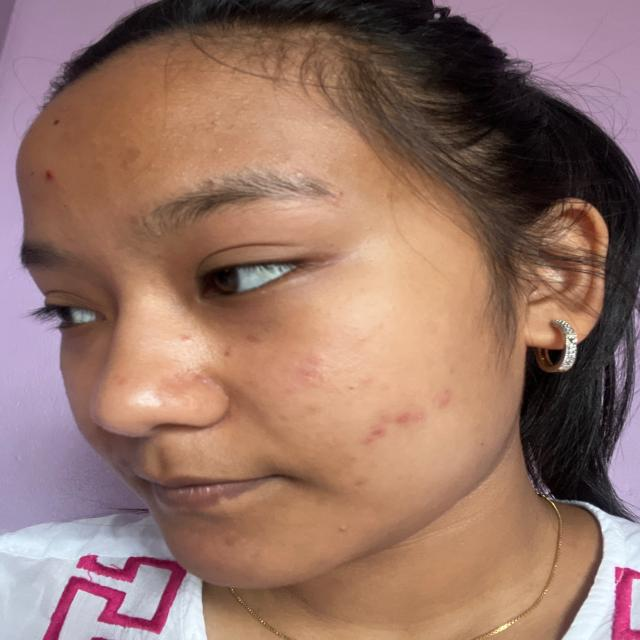Acne: (362, 409, 431, 445), (285, 349, 337, 389), (189, 367, 231, 398), (432, 383, 457, 409), (355, 373, 379, 391), (39, 168, 57, 184), (338, 450, 358, 464), (302, 401, 322, 414), (246, 332, 264, 345), (354, 333, 372, 346), (113, 376, 132, 388), (179, 332, 192, 345), (336, 523, 348, 532)
Blackheads: (205, 106, 225, 156)
